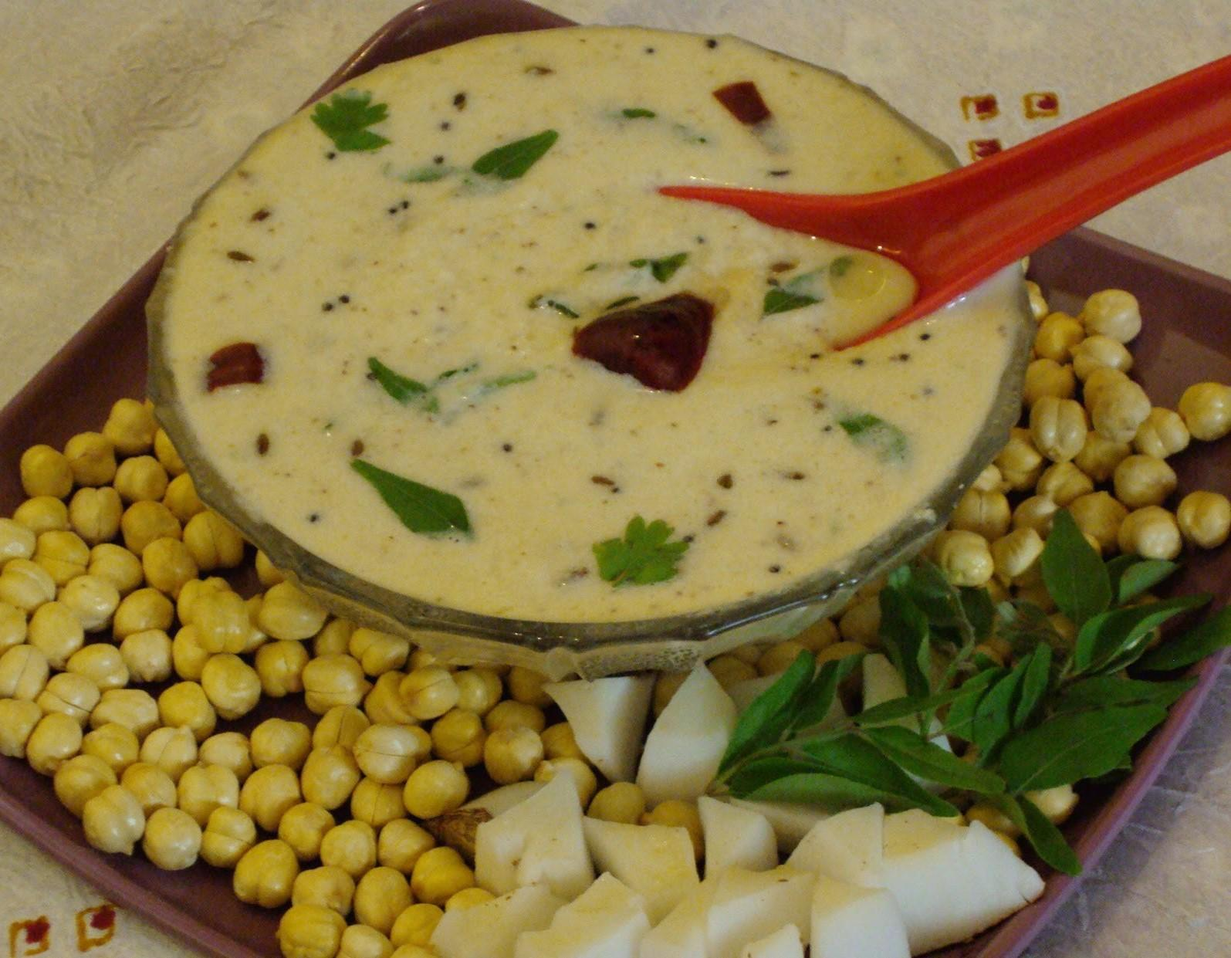CoconutChutney: (167, 28, 1016, 616)
